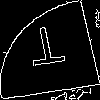T: (25, 25, 69, 76)
